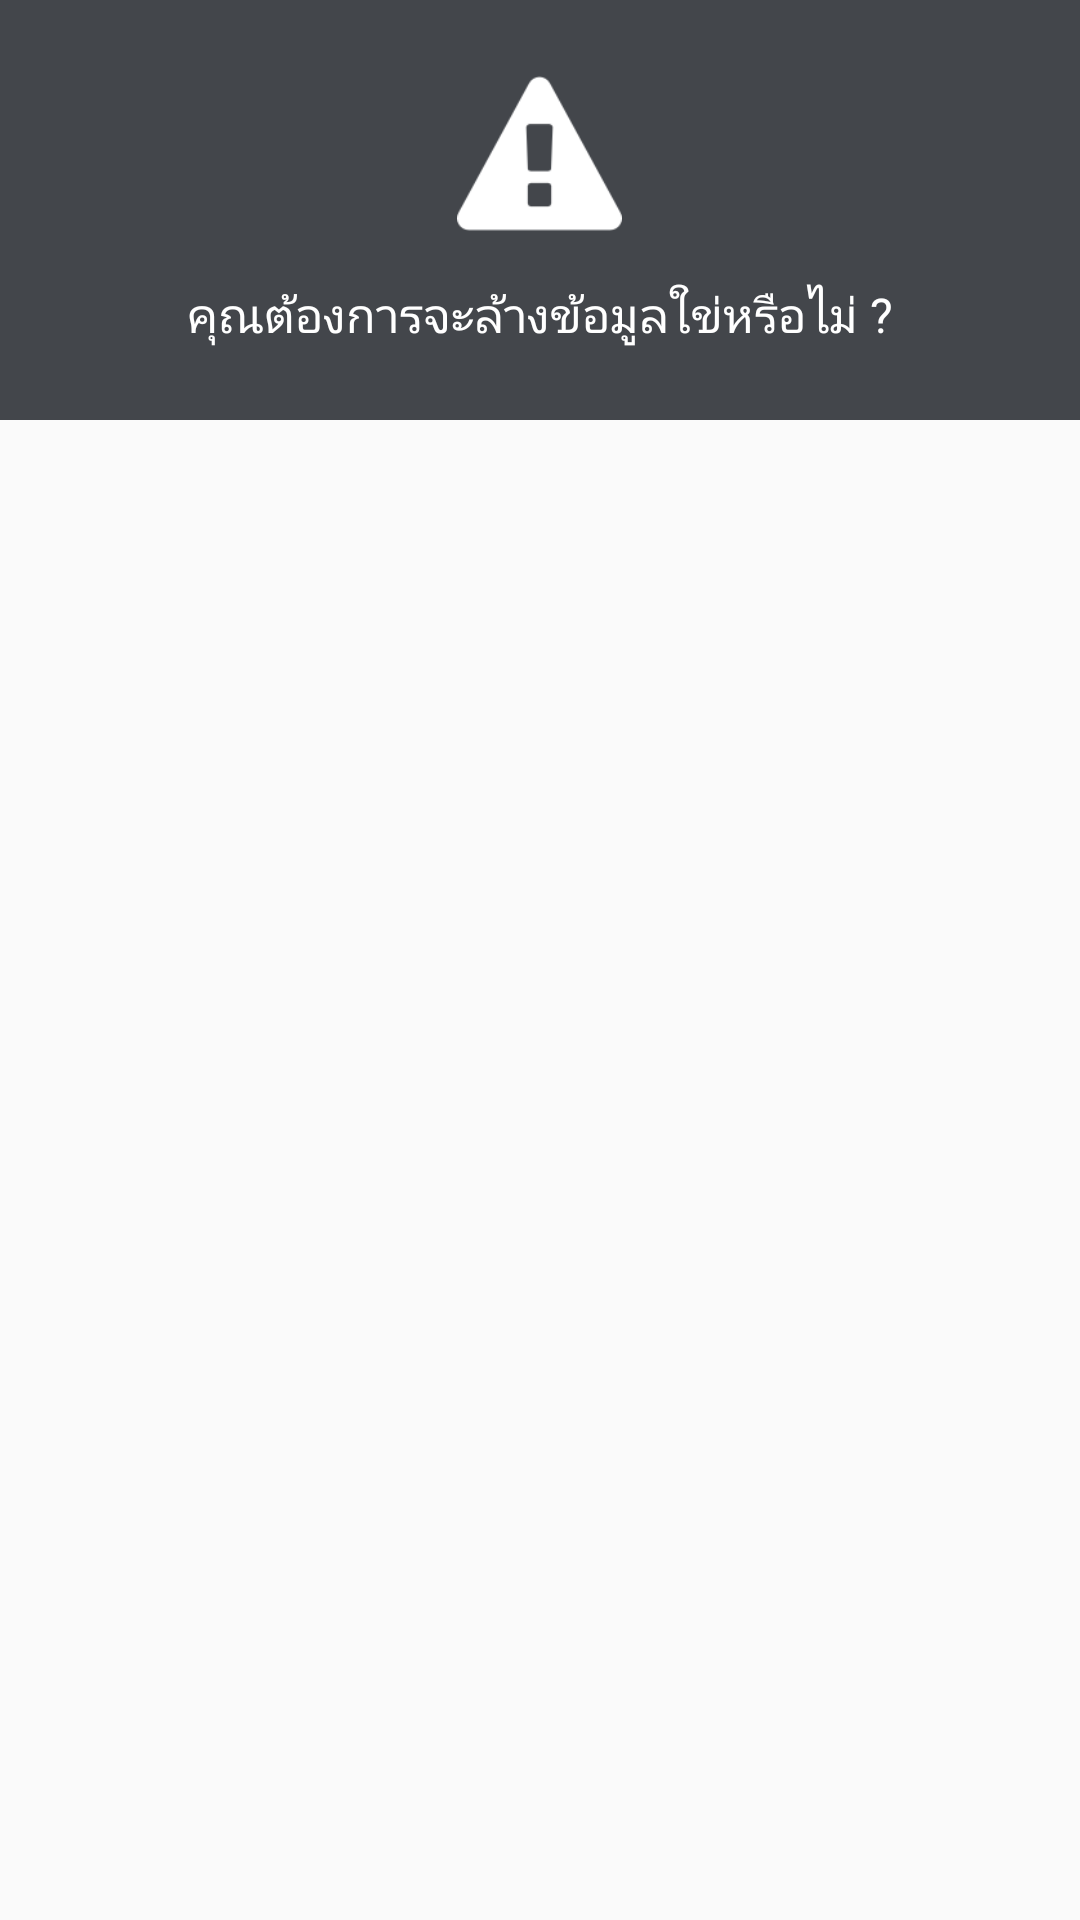

Icon click points for this 1080px x 1920px phone screenshot, format point (x, y):
warning: point (539, 153)
